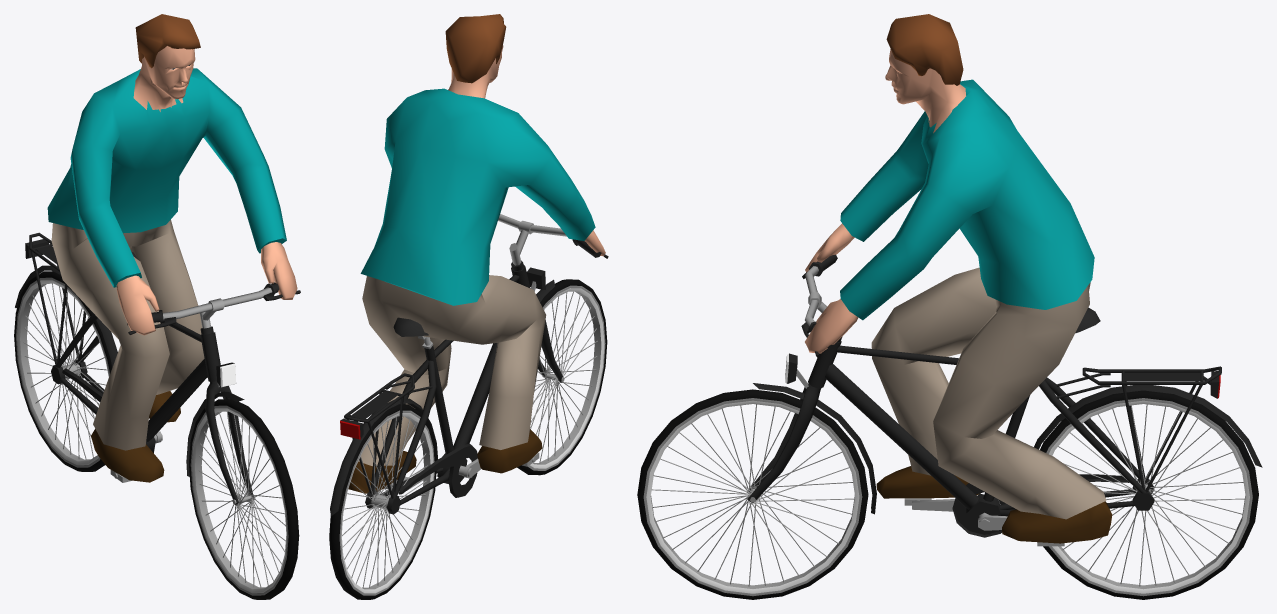
File: Cycle Man 02.obj
3 renders of one model, left to right at view 1: azimuth 30°, elevation 25°; view 2: azimuth 150°, elevation 25°; view 3: azimuth 270°, elevation 25°, orthographic. The views are drawn at different scales.
Parts seen in each view (by area): view 1: torso, reifen_vorne, bike_frame, gabel_vorne, reifen_hinten; view 2: torso, bike_frame, reifen_hinten, reifen_vorne, gabel_vorne, Sphere001, Box001; view 3: torso, bike_frame, reifen_vorne, reifen_hinten, gabel_vorne, Sphere001, Cylinder092.
Part boxes in pixels (<box>): torso: <box>47,14,297,482</box>; reifen_vorne: <box>189,399,299,599</box>; bike_frame: <box>15,232,220,452</box>; gabel_vorne: <box>127,282,300,504</box>; reifen_hinten: <box>14,271,112,471</box>; torso: <box>348,14,605,493</box>; bike_frame: <box>330,265,530,516</box>; reifen_hinten: <box>329,404,436,599</box>; reifen_vorne: <box>517,279,607,475</box>; gabel_vorne: <box>498,214,608,382</box>; Sphere001: <box>398,443,477,497</box>; Box001: <box>393,317,428,336</box>; torso: <box>805,14,1112,543</box>; bike_frame: <box>808,341,1262,534</box>; reifen_vorne: <box>637,389,868,599</box>; reifen_hinten: <box>1040,390,1258,599</box>; gabel_vorne: <box>747,254,876,514</box>; Sphere001: <box>952,474,1129,537</box>; Cylinder092: <box>912,499,1007,530</box>.
Size of the model in its own units: 34.59 by 91.39 by 88.74.
